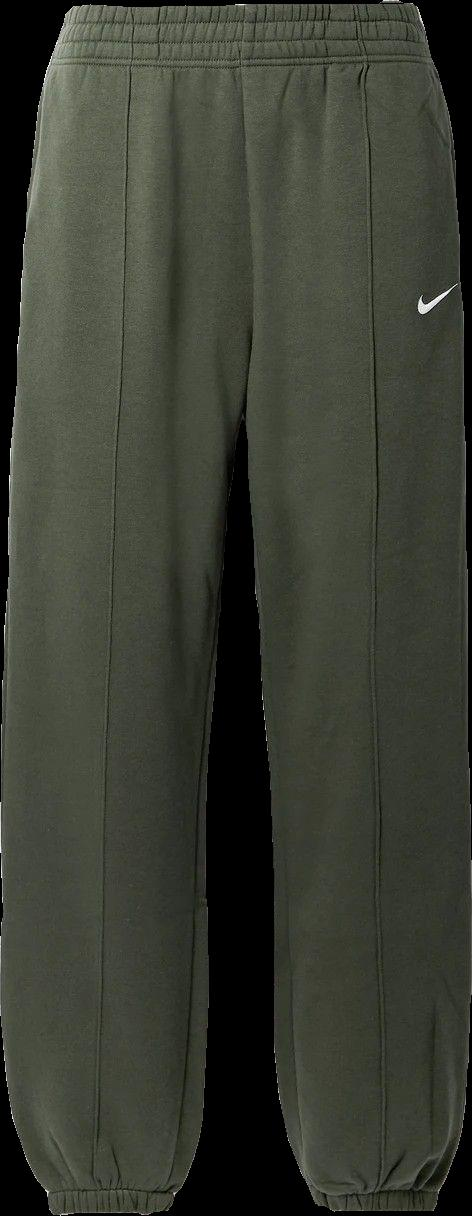Hemline: (50, 1195, 173, 1215), (320, 1193, 437, 1214)
Pantleg: (1, 3, 239, 1213), (239, 2, 471, 1211)
Waistline: (44, 53, 433, 74), (64, 0, 416, 22)
